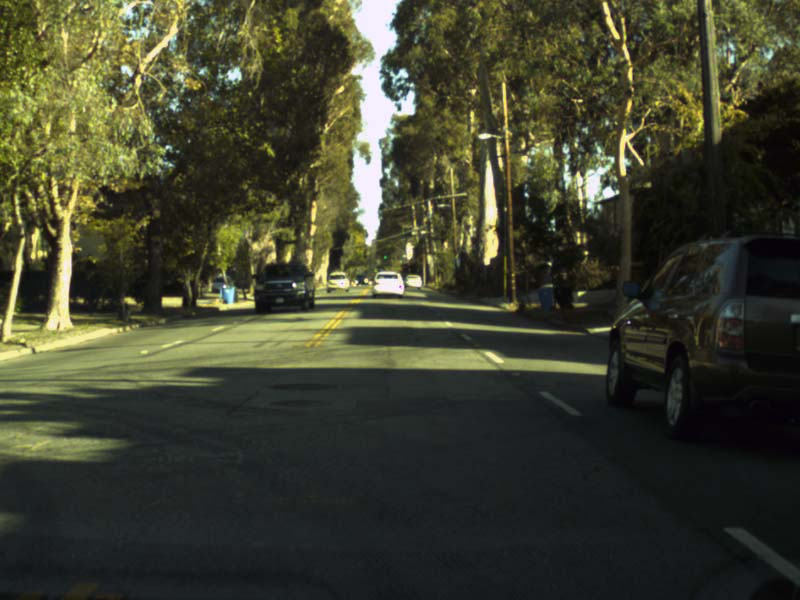Green: (382, 254, 387, 260)
